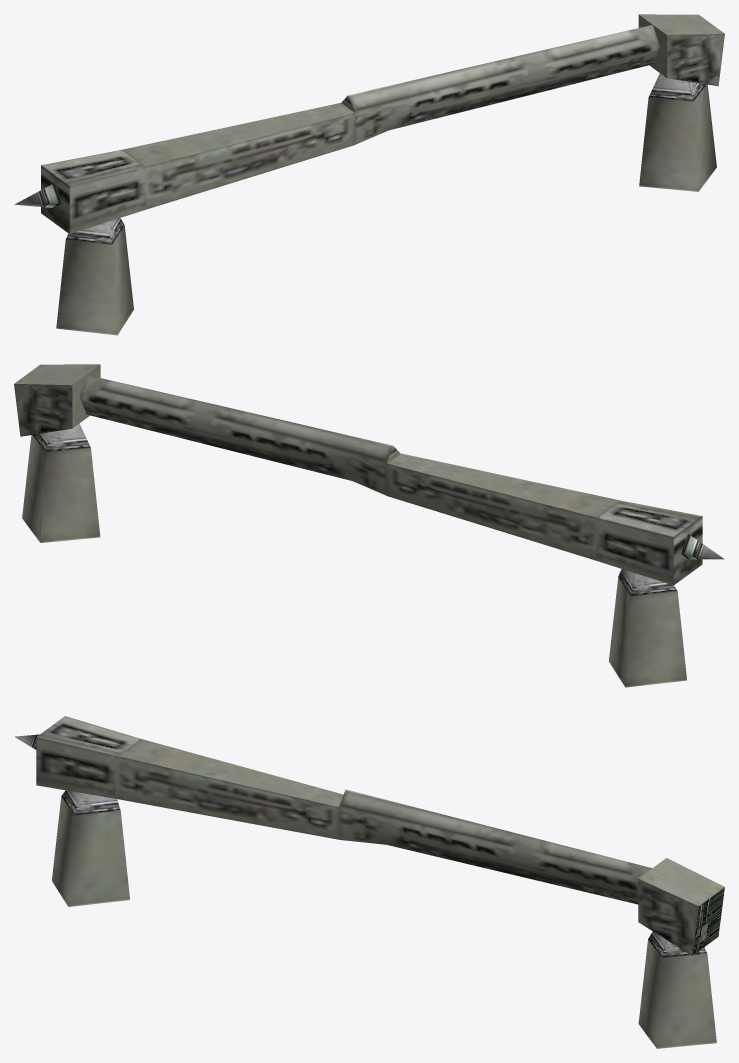
Rendered from thm_corl_power_connector_l3.fbx.
3 views of the same model, one above another, from view 1: azimuth 30°, elevation 25°; view 2: azimuth 150°, elevation 25°; view 3: azimuth 330°, elevation 25° (orthographic).
Parts seen in each view (by area): view 1: mesh_node; view 2: mesh_node; view 3: mesh_node.
Boxes of the visible parts, box(x1,y1,x2,y2) form: mesh_node: box(14, 14, 724, 335); mesh_node: box(14, 364, 724, 687); mesh_node: box(14, 716, 724, 1048).
Size of the model in its own units: 9 by 1.99 by 1.
